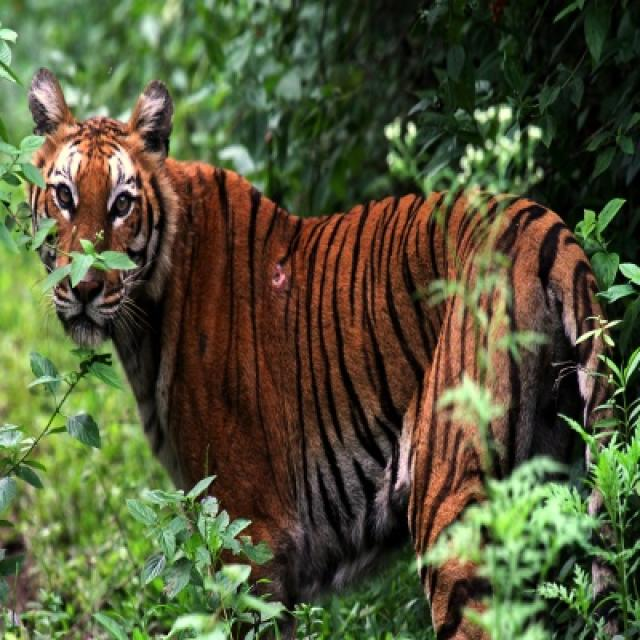Tiger: (30, 69, 613, 635)
